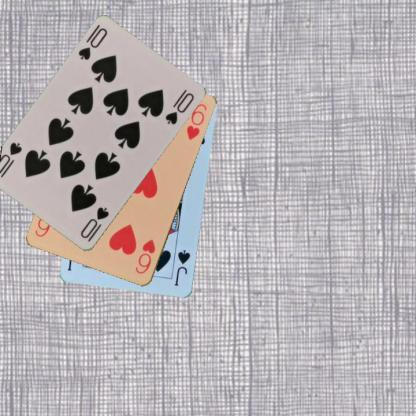10s: (78, 204, 112, 240), (76, 25, 109, 62)
6h: (133, 237, 157, 275)
Js: (172, 247, 192, 288)
